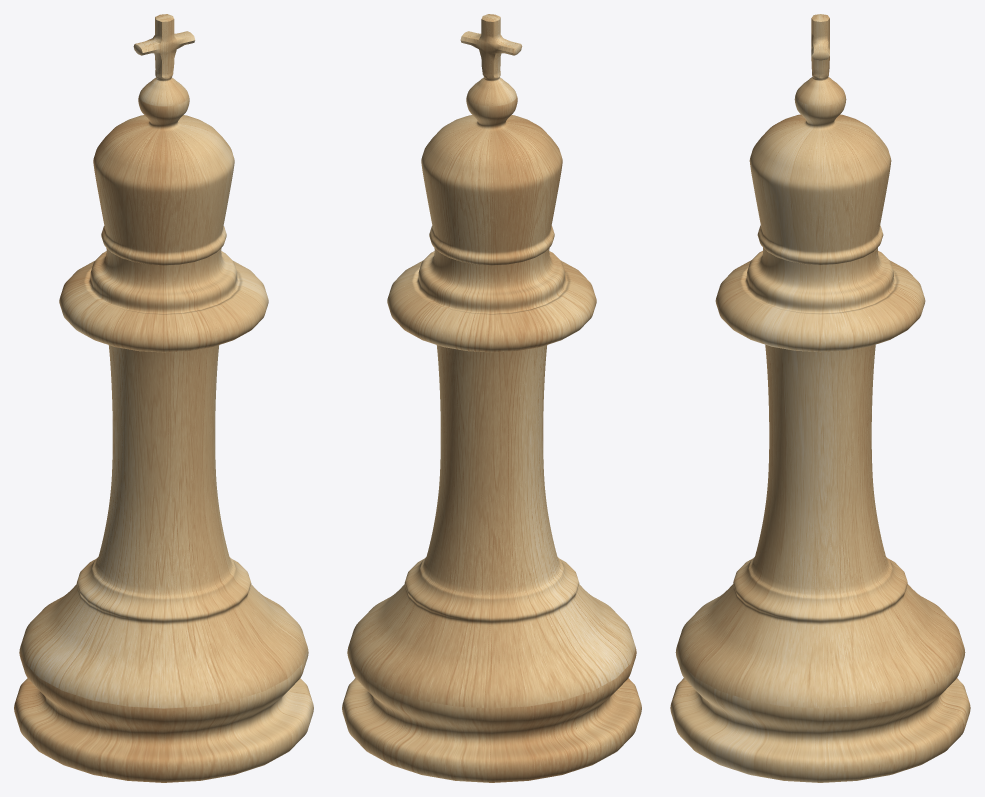
Rendered from king.gltf.
The picture shows the model from 3 angles, left to right: view 1: azimuth 30°, elevation 25°; view 2: azimuth 150°, elevation 25°; view 3: azimuth 270°, elevation 25°; orthographic projection.
Visible parts, largest first — view 1: mesh01; view 2: mesh01; view 3: mesh01.
Boxes of the visible parts, <box> form: mesh01: <box>14,14,313,782</box>; mesh01: <box>342,14,641,782</box>; mesh01: <box>670,14,970,782</box>.
Size of the model in its own units: 14.66 by 38.26 by 14.66.
1 material, 1 textured.
